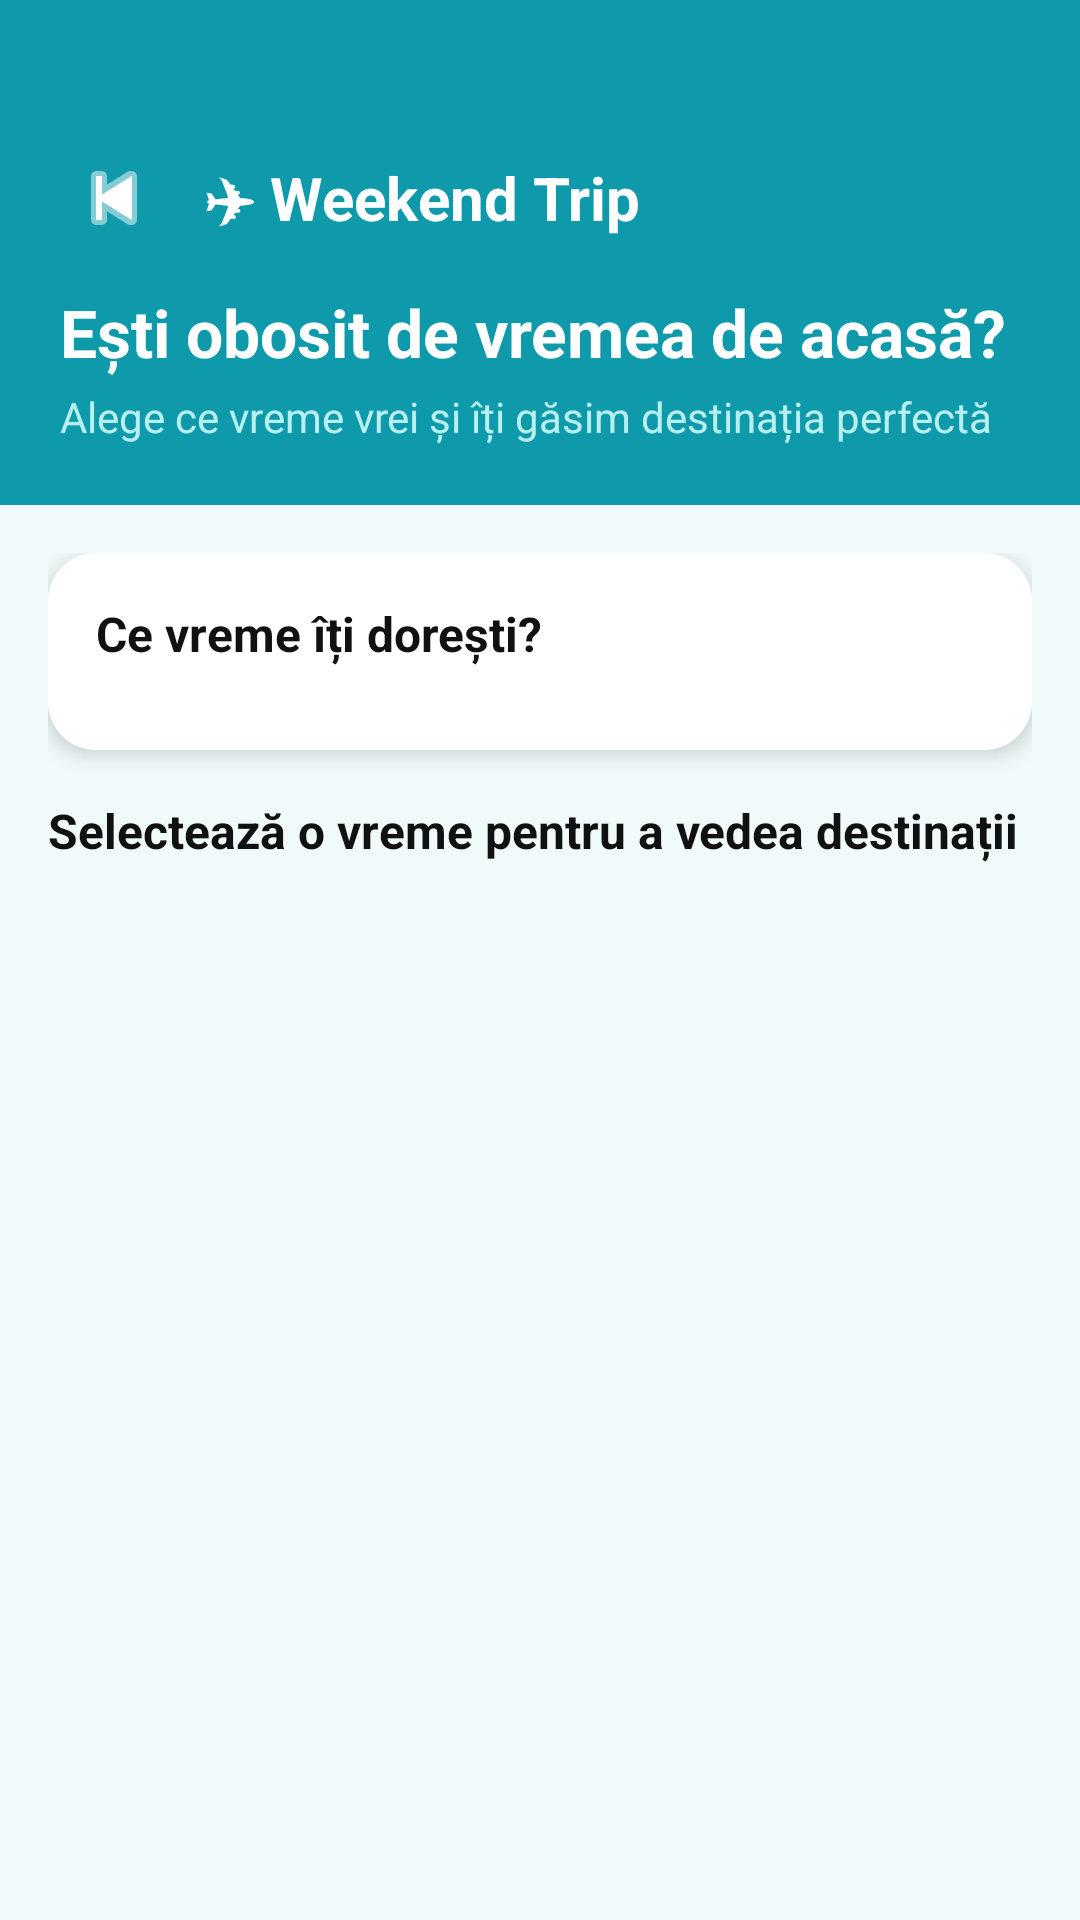

Where to tap for icons on this 1080w x 1920h app screen, as point (x, y):
previous: point (114, 198)
